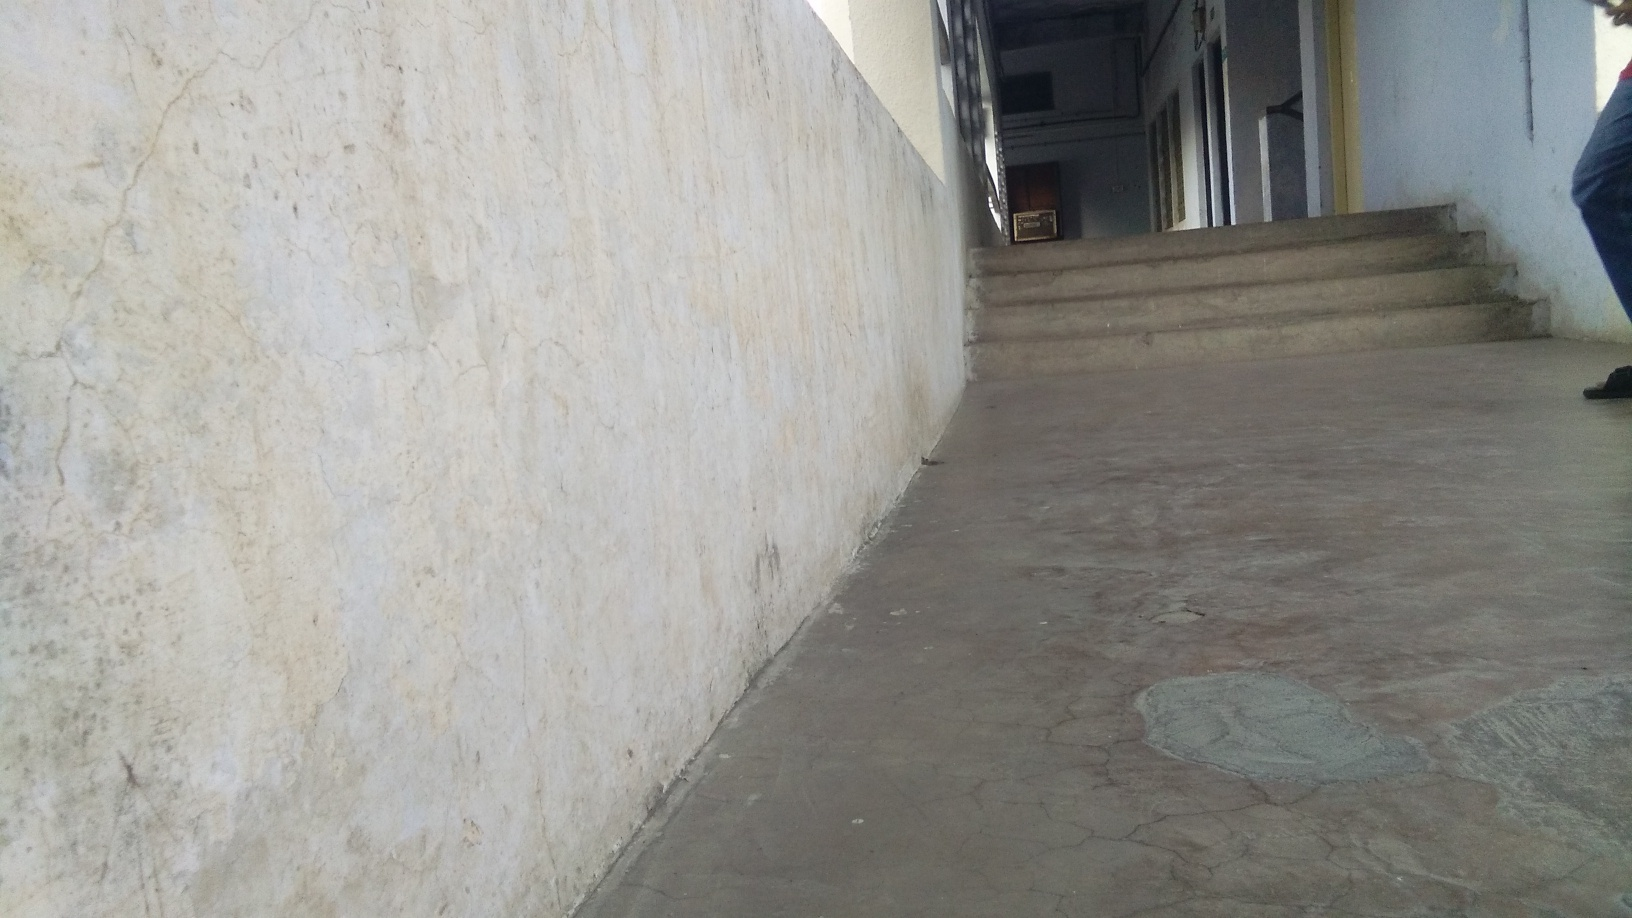stairs_up: (966, 207, 1570, 363)
